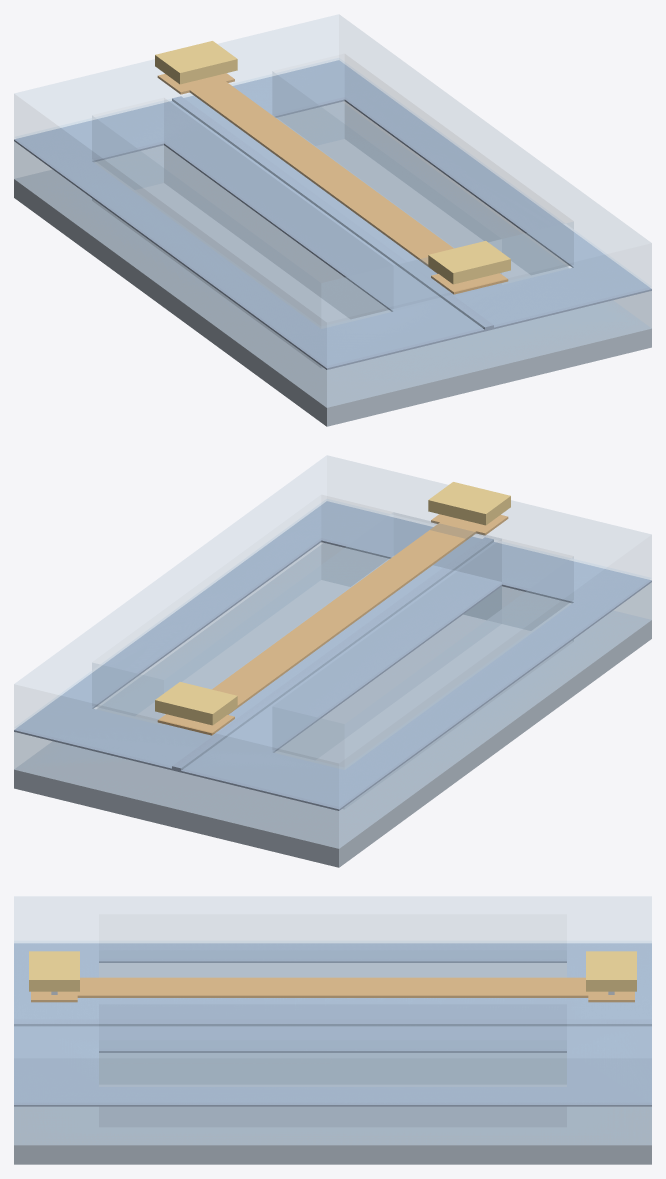
File: stack-heater.glb
The picture shows the model from 3 angles, top to bottom: view 1: azimuth 30°, elevation 25°; view 2: azimuth 150°, elevation 25°; view 3: azimuth 270°, elevation 25°; orthographic projection.
Parts seen in each view (by area): view 1: cladx, sisub, si, box, tin18, metal1; view 2: cladx, sisub, si, box, tin18, metal1; view 3: cladx, si, sisub, box, tin18, metal1.
Boxes of the visible parts, left/top/right/bottom form: cladx: left=14, top=14, right=651, bottom=367; sisub: left=14, top=102, right=651, bottom=426; si: left=14, top=60, right=651, bottom=369; box: left=14, top=101, right=651, bottom=407; tin18: left=157, top=73, right=508, bottom=294; metal1: left=155, top=41, right=510, bottom=284; cladx: left=14, top=455, right=651, bottom=808; sisub: left=14, top=543, right=651, bottom=867; si: left=14, top=501, right=651, bottom=810; box: left=14, top=542, right=651, bottom=848; tin18: left=157, top=514, right=508, bottom=735; metal1: left=155, top=482, right=510, bottom=725; cladx: left=14, top=896, right=651, bottom=1104; si: left=14, top=943, right=651, bottom=1106; sisub: left=14, top=1053, right=651, bottom=1164; box: left=14, top=963, right=651, bottom=1144; tin18: left=31, top=977, right=634, bottom=1002; metal1: left=29, top=951, right=636, bottom=991.
Size of the model in its own units: 18 by 6.12 by 30.
